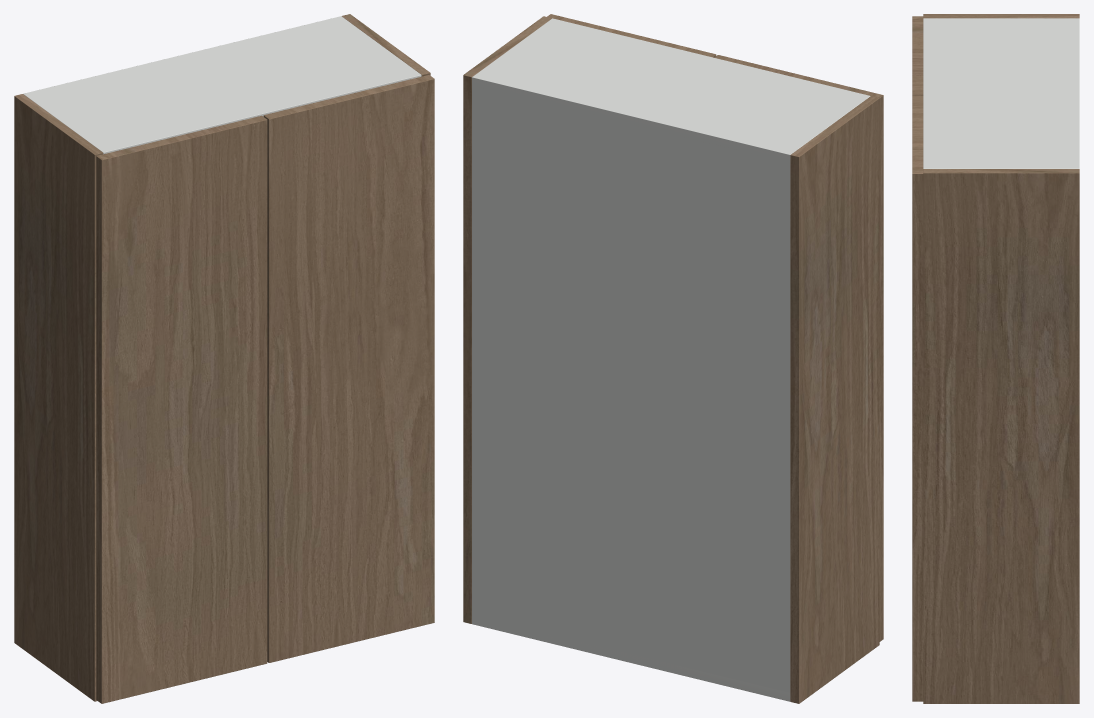
Rendered from oppein-pb-mnw-w2742.glb.
3 renders of one model, left to right at view 1: azimuth 30°, elevation 25°; view 2: azimuth 150°, elevation 25°; view 3: azimuth 270°, elevation 25°, orthographic. The views are drawn at different scales.
Visible parts, largest first — view 1: Door, Door.001, Cabinet side, Cabinet top, Cabinet side.001; view 2: Cabinet back, Cabinet side, Cabinet top, Cabinet side.001, Door, Cabinet bottom, Door.001; view 3: Cabinet side.001, Cabinet top, Door.001, Door, Cabinet side.
Boxes of the visible parts, x1,y1,x2,y2 form: Door: (96,115,267,703); Door.001: (263,75,434,662); Cabinet side: (14,94,103,701); Cabinet top: (23,16,421,154); Cabinet side.001: (342,14,430,76); Cabinet back: (472,78,790,701); Cabinet side: (790,96,879,703); Cabinet top: (472,18,870,163); Cabinet side.001: (463,16,551,623); Door: (714,55,883,641); Cabinet bottom: (600,647,790,701); Door.001: (547,14,716,57); Cabinet side.001: (923,169,1079,703); Cabinet top: (923,18,1079,168); Door.001: (912,95,923,701); Door: (912,16,923,95); Cabinet side: (923,14,1079,18).
Size of the model in its own units: 0.6858 by 1.07 by 0.3048.
Materials: 2 (1 with a texture image).
